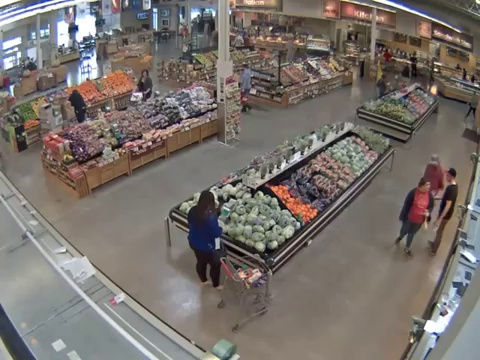face: (421, 181, 430, 192), (445, 172, 453, 182), (142, 71, 147, 77)
